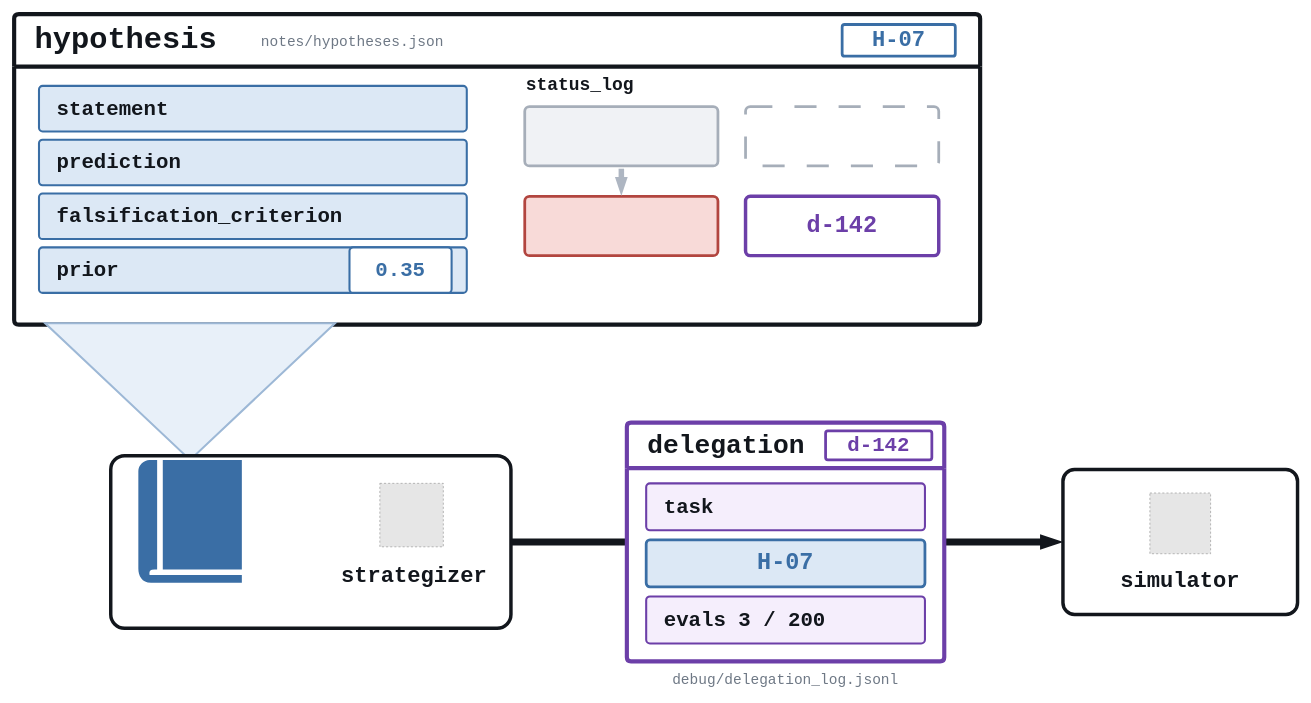
This 1311x703 diagram has some shape labels left out. Grey dashed boxes stand in for pictures. Each missing label, with the centre of its shape:
"FALSIFIED" belongs at (x=621, y=226).
"OPEN" belongs at (x=621, y=136).
